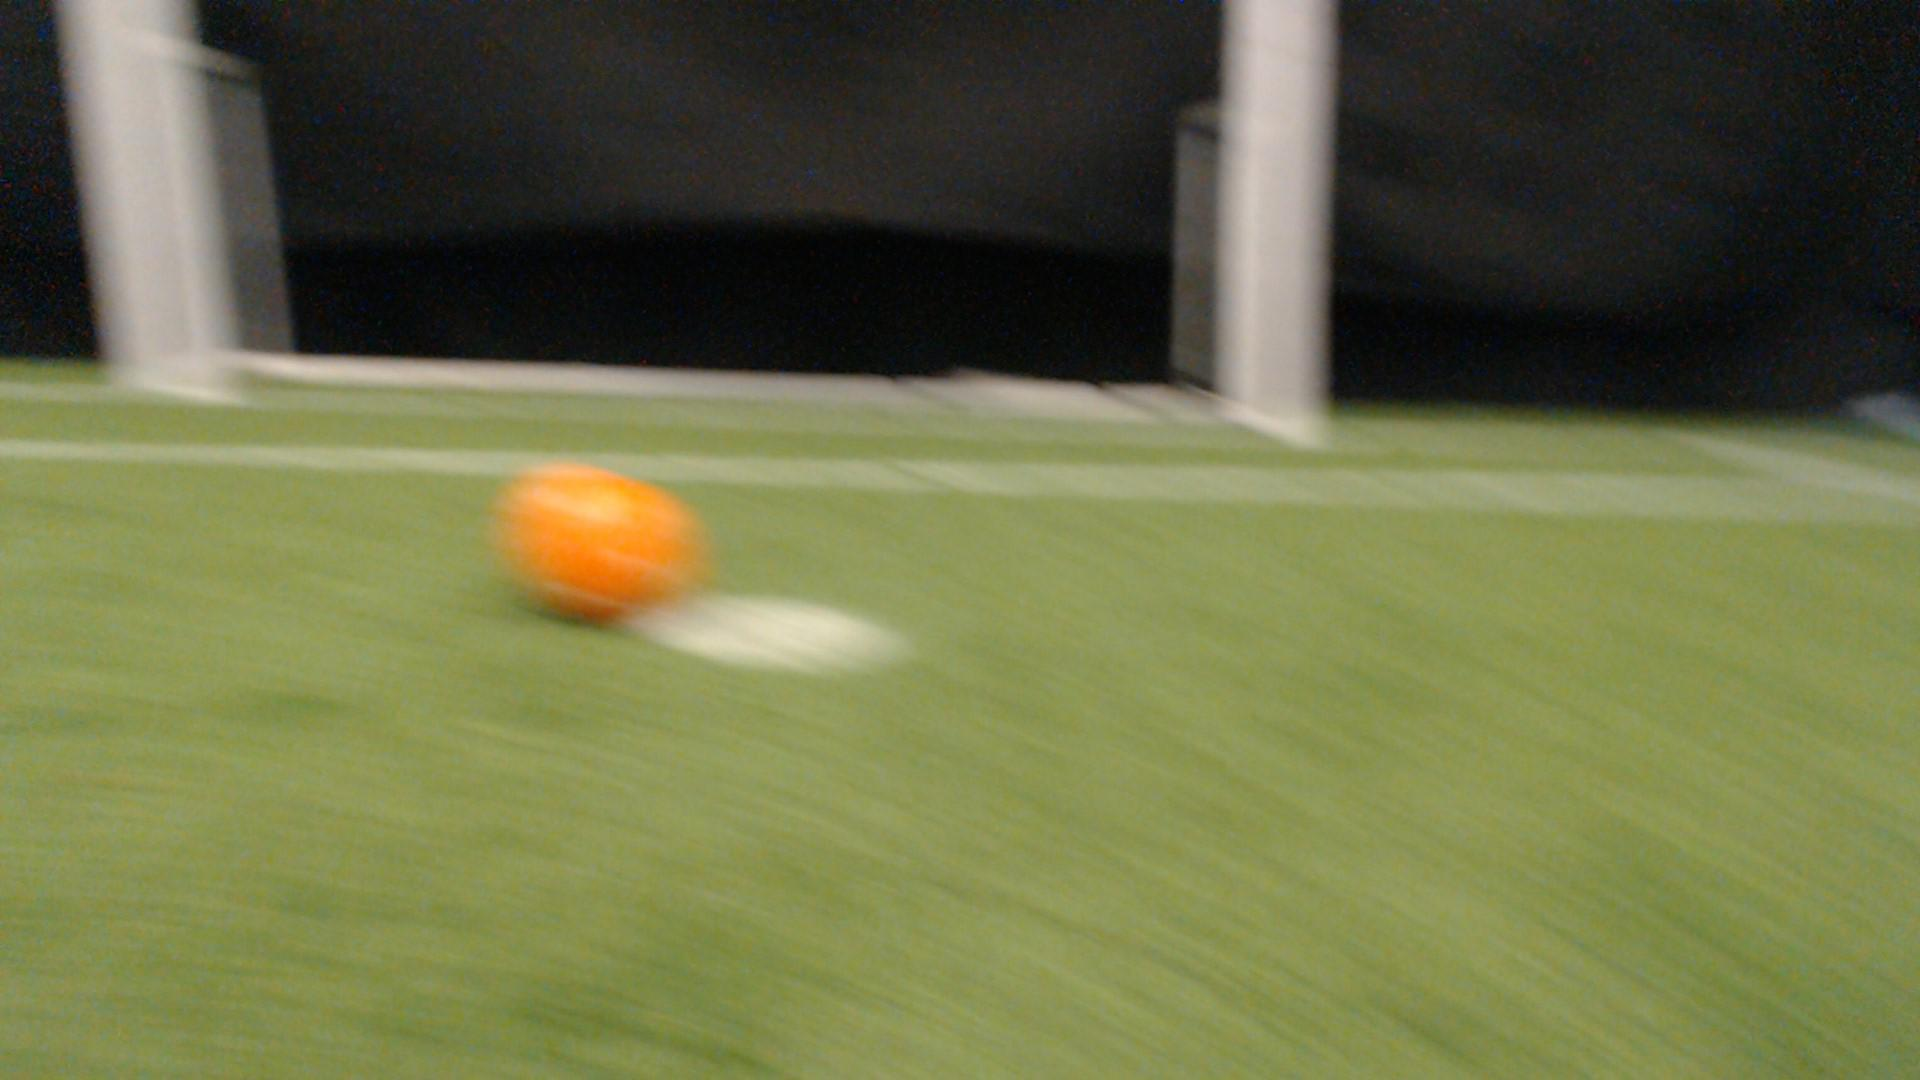bola: (488, 455, 703, 624)
